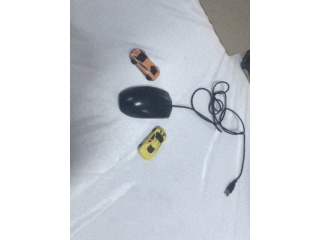mouse: (118, 86, 172, 119)
toy_car: (137, 126, 166, 161), (130, 48, 159, 81)
